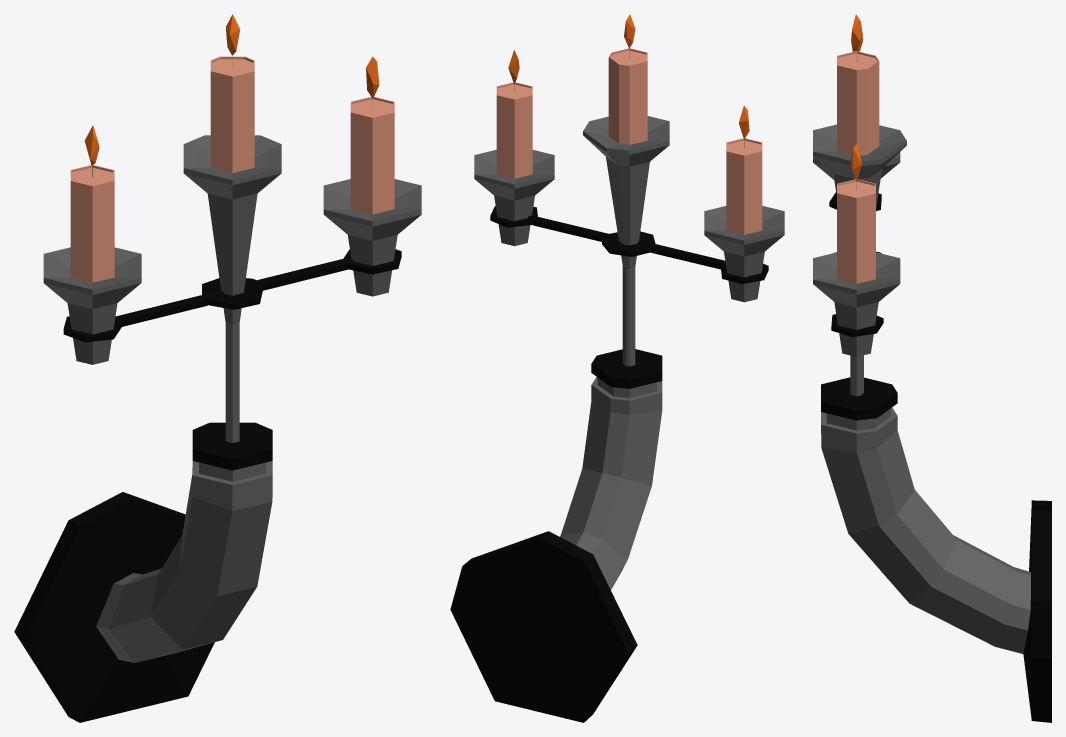
File: Candle_05.fbx
3 renders of one model, left to right at view 1: azimuth 30°, elevation 25°; view 2: azimuth 150°, elevation 25°; view 3: azimuth 270°, elevation 25°, orthographic. The views are drawn at different scales.
Visible parts, largest first — view 1: Candle_05; view 2: Candle_05; view 3: Candle_05.
Boxes of the visible parts, x1=… form: Candle_05: x1=14, y1=14, x2=421, y2=722; Candle_05: x1=450, y1=14, x2=784, y2=722; Candle_05: x1=813, y1=14, x2=1051, y2=722.
Bounding box in the file's own units: 41.09 × 80 × 25.29.
